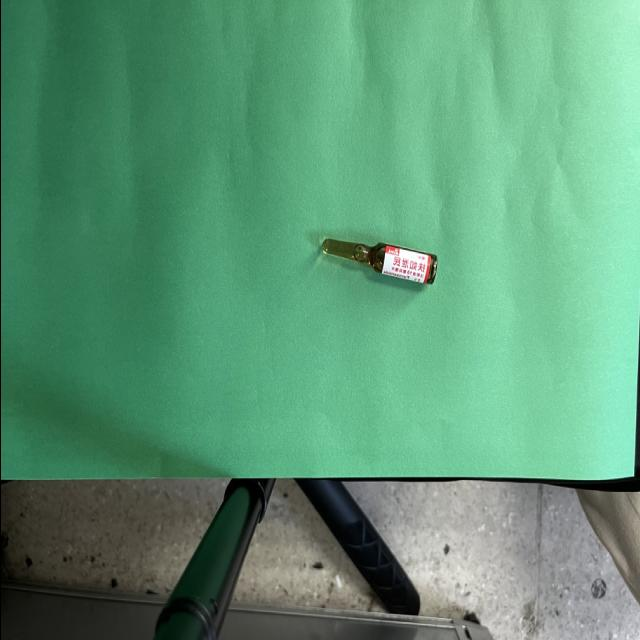Ampoules: (320, 238, 436, 285)
